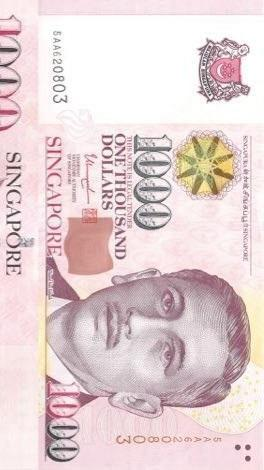1000SingaporeDollar: (41, 0, 264, 470)
